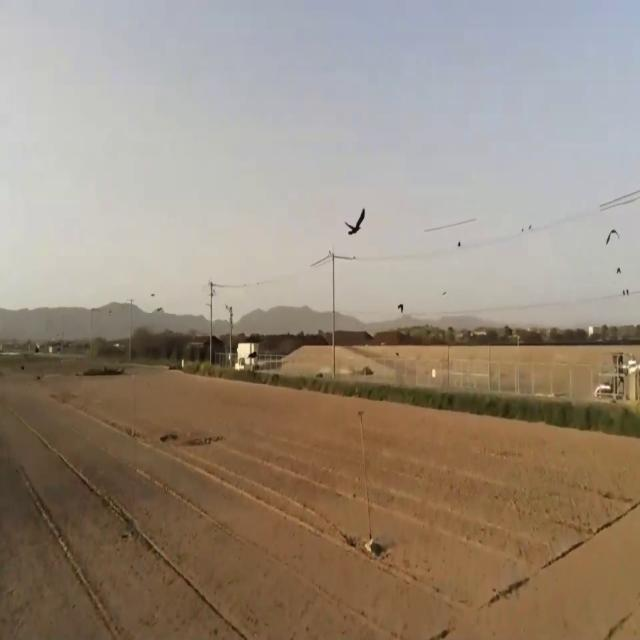bird: (342, 193, 368, 250), (606, 220, 620, 252), (397, 295, 404, 319)
